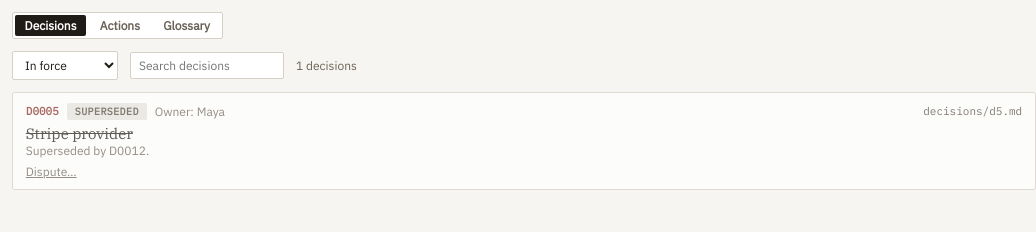
Test: RecordsTab R45.25 (Decisions + Actions + Glossary) › Actions view lists open actions, flags overdue and the gate
Click the button "Actions".
click(120, 26)  # box x1=90 y1=15 x2=150 y2=36
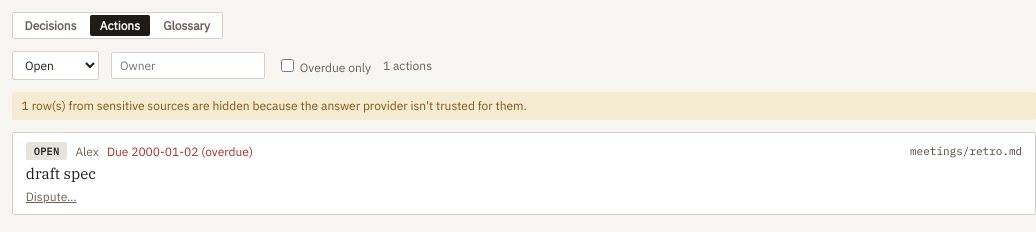
Now the text "draft spec" is shown, box x1=26 y1=164 x2=96 y2=183
Now the text "hidden because the answer provider" is shown, box x1=22 y1=98 x2=527 y2=113
